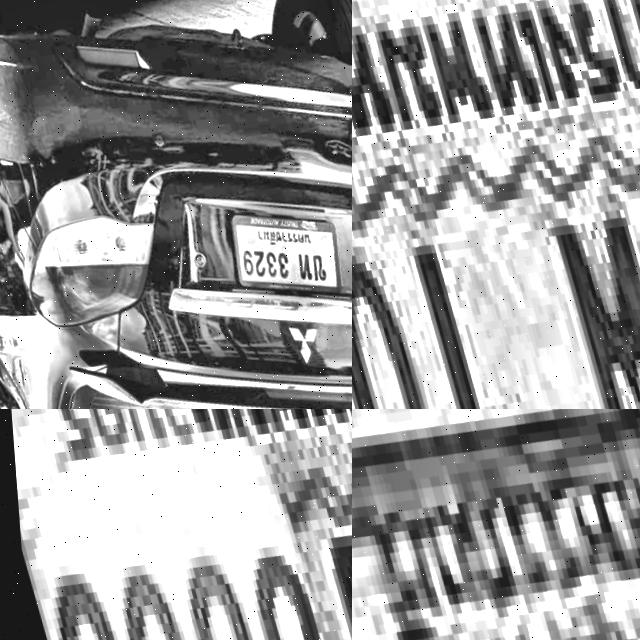license-plate: (352, 0, 640, 409), (0, 409, 352, 640), (352, 409, 640, 640), (207, 177, 350, 318)
